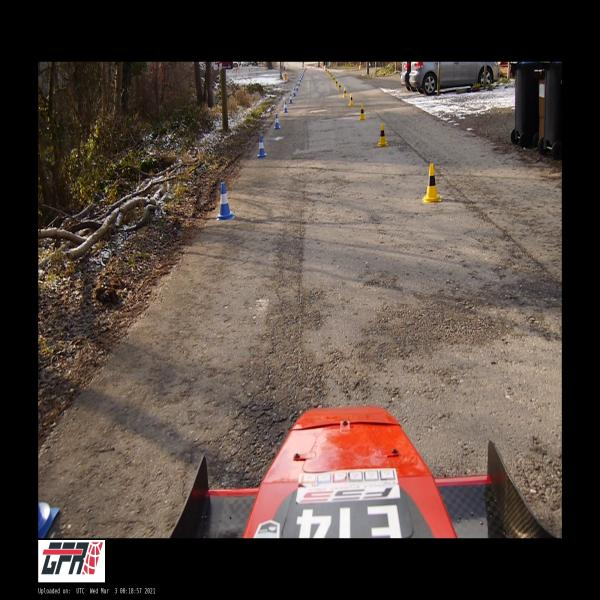blue_cone: (218, 183, 232, 219), (258, 136, 266, 157), (274, 114, 280, 129), (283, 102, 288, 112), (289, 94, 293, 103), (293, 88, 296, 96), (296, 84, 298, 91)
yellow_cone: (424, 164, 439, 202), (378, 123, 387, 145), (359, 103, 366, 120), (350, 92, 353, 106), (343, 87, 347, 97), (335, 79, 338, 86), (339, 82, 341, 91), (333, 76, 335, 82)
